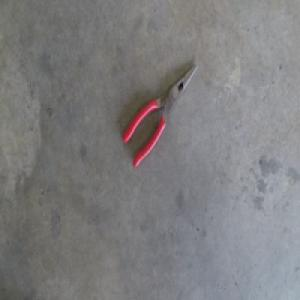Pliers: (122, 64, 199, 169)
